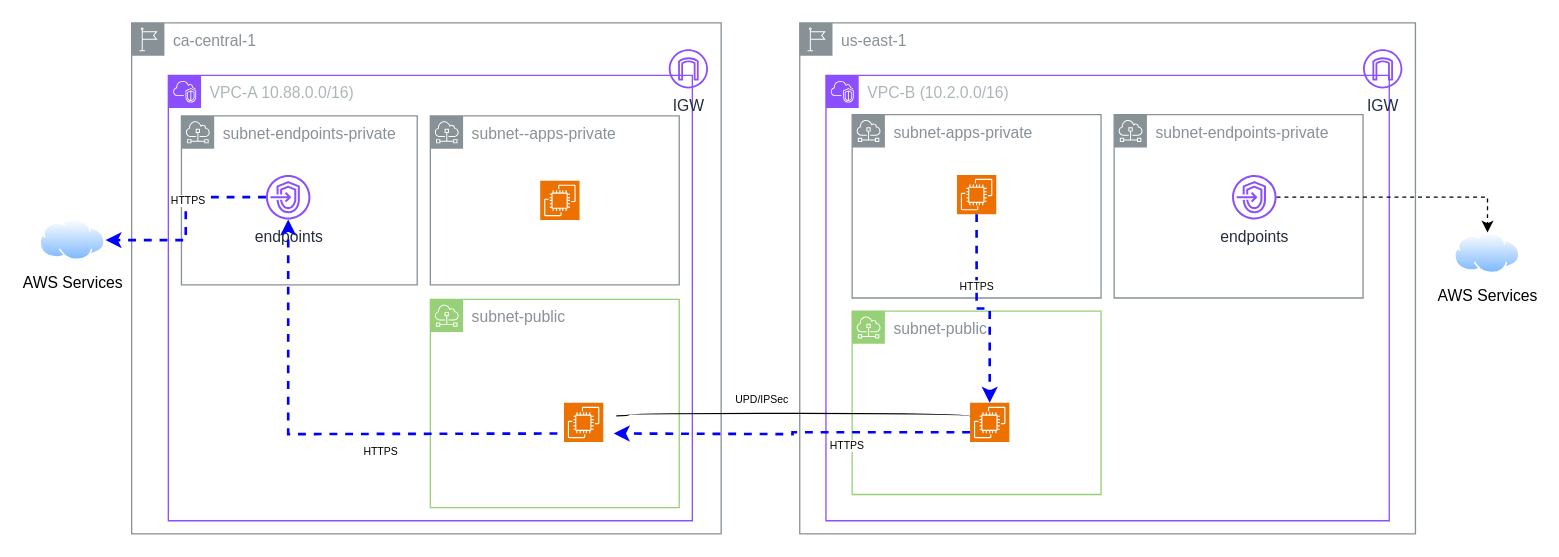
Image size: 1559x557. Some labels were removed from this diagram. The shapes that lost their labels are listed below. From the top down, each one's centre as x and y in pixels, then its label:
pixel 559 199: private-a
pixel 976 194: private-b
pixel 583 422: vpn-a (Libreswan)
pixel 989 422: vpn-b (Libreswan)
